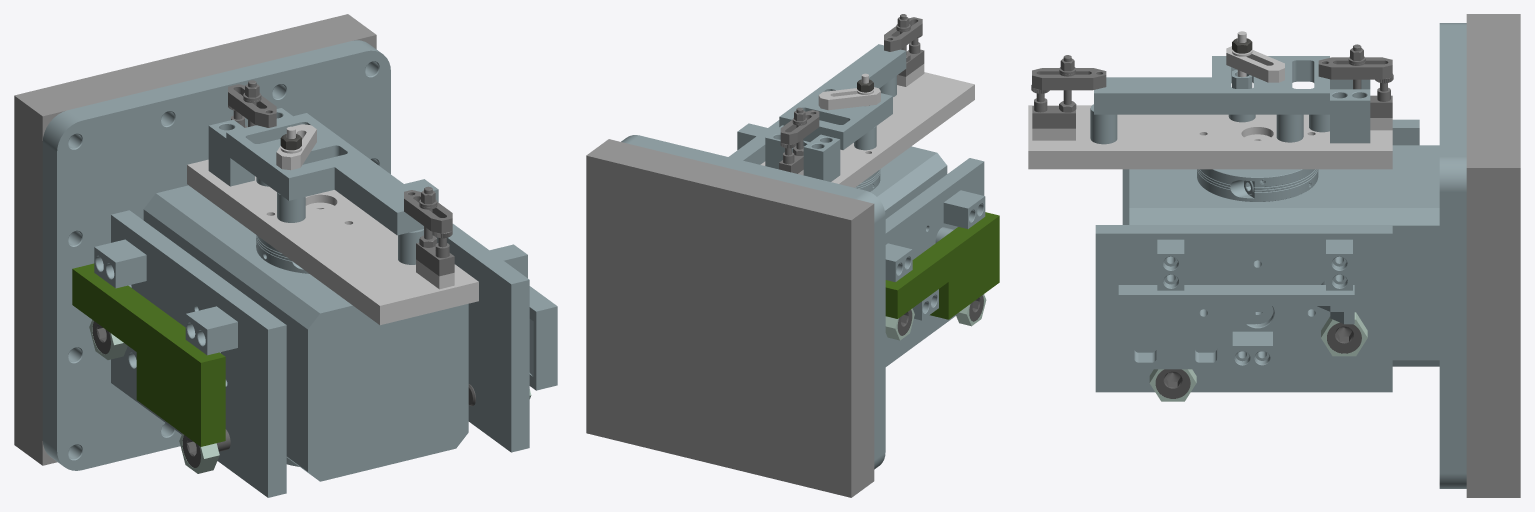
File: 01.PalletAssembly.fbx
3 renders of one model, left to right at view 1: azimuth 30°, elevation 25°; view 2: azimuth 150°, elevation 25°; view 3: azimuth 270°, elevation 25°, orthographic. The views are drawn at different scales.
Visible parts, largest first — view 1: Body1 (×21); view 2: Body1 (×17); view 3: Body1 (×23).
Part boxes in pixels (<box>): Body1 (×21): <box>14,14,557,497</box>; Body1 (×17): <box>586,14,999,497</box>; Body1 (×23): <box>1028,14,1520,497</box>.
Size of the model in its own units: 270 by 303 by 365.
